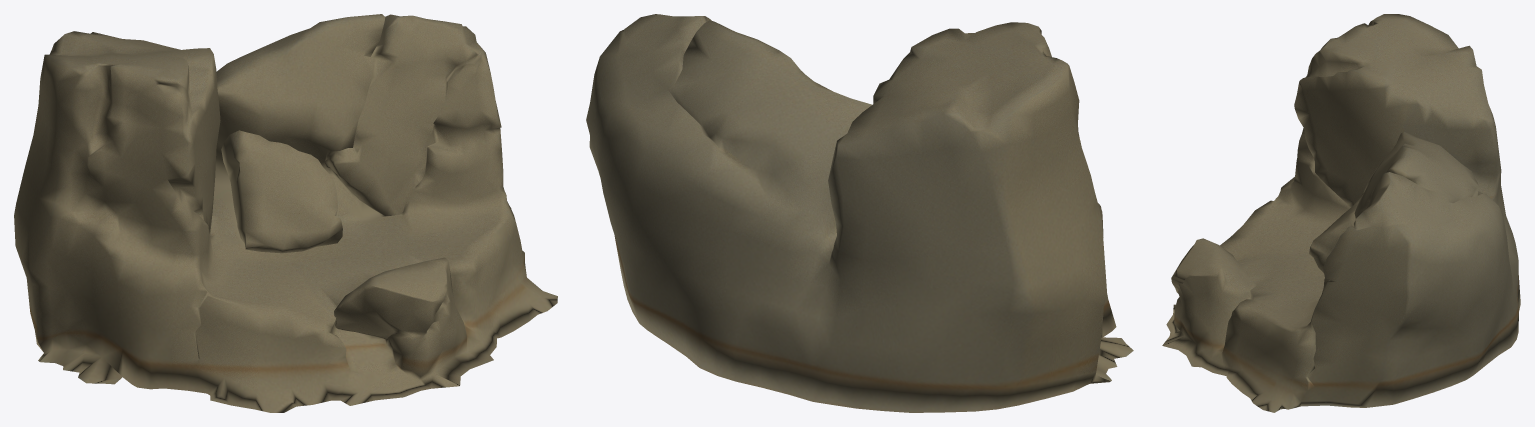
Rendered from tas_yatagi.glb.
The picture shows the model from 3 angles, left to right: view 1: azimuth 30°, elevation 25°; view 2: azimuth 150°, elevation 25°; view 3: azimuth 270°, elevation 25°; orthographic projection. The views are drawn at different scales.
Size of the model in its own units: 0.9575 by 0.5674 by 0.7881.
Materials: 1 (1 with a texture image).
